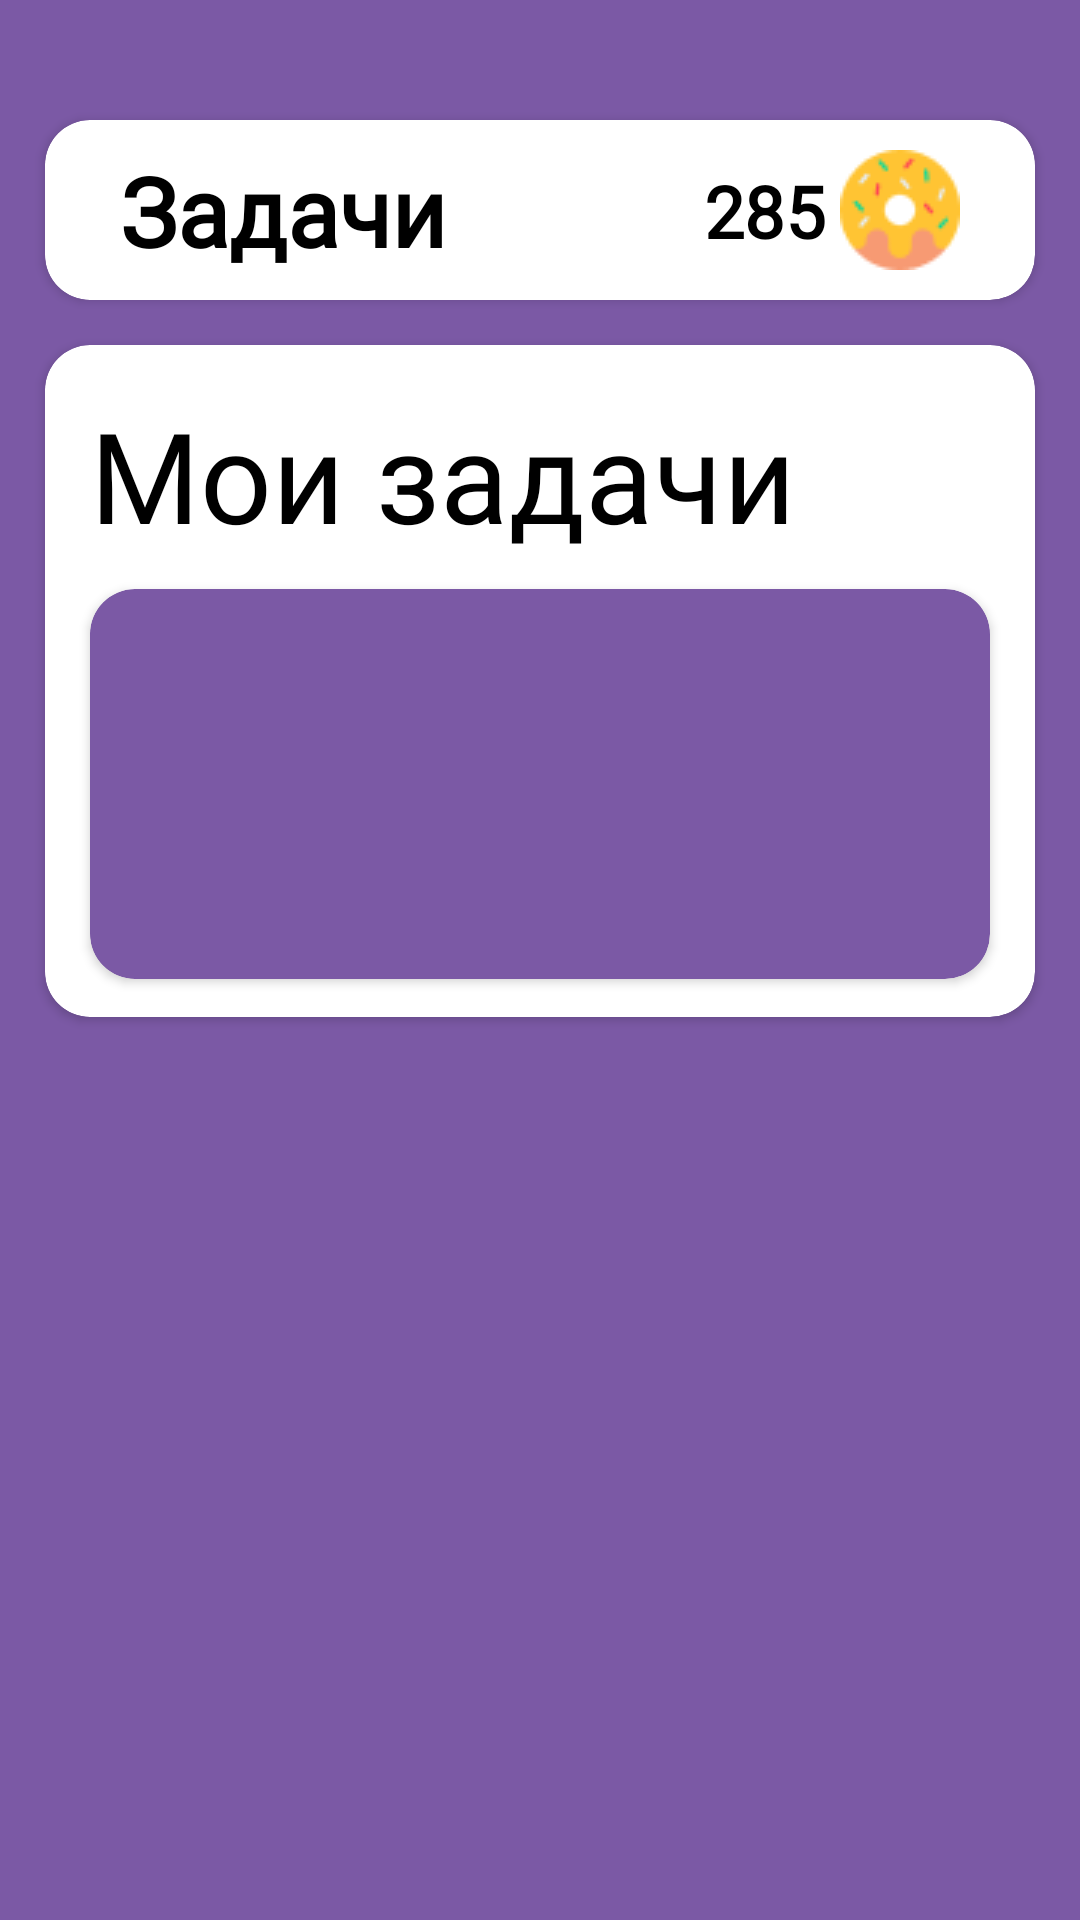

Icon click points for this 1080 x 1920 phone screenshot, format [x,y]:
donut: [900,210]
